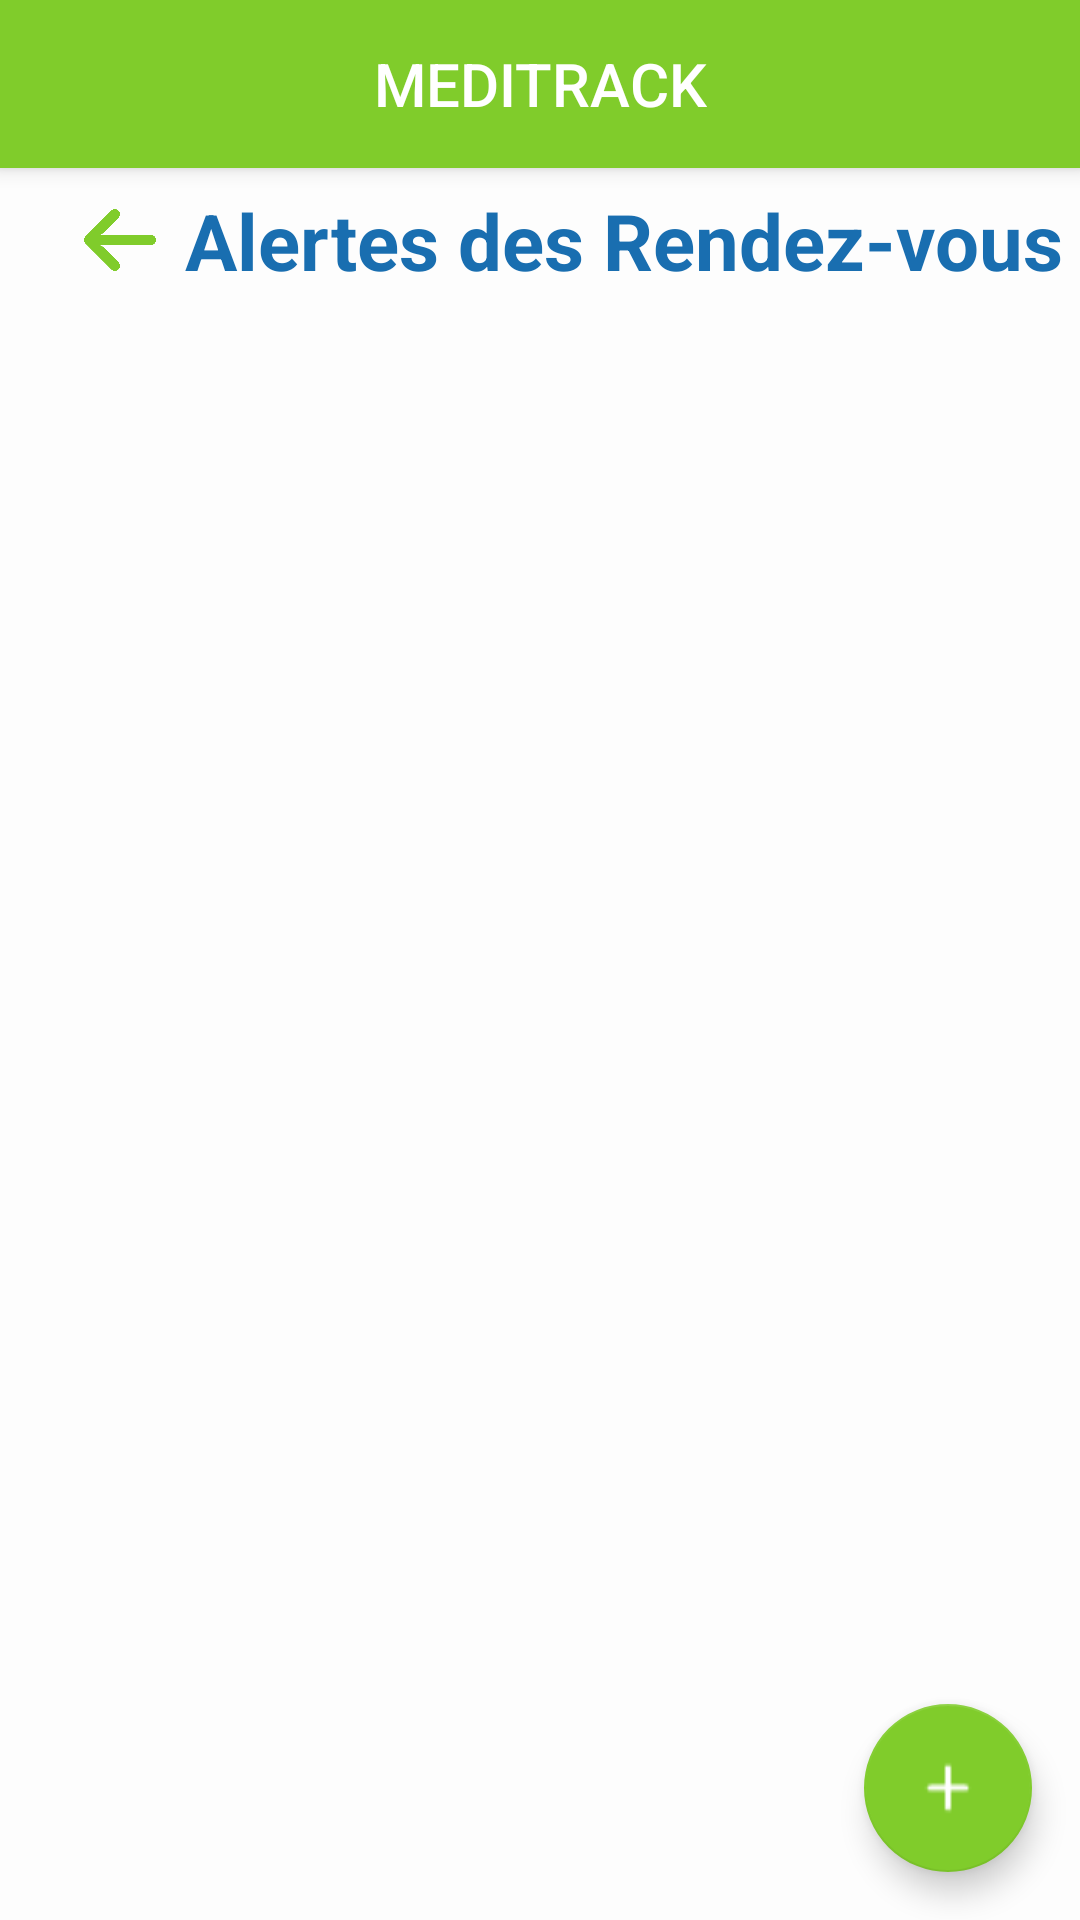

Icons on this 1080×1920 Android screen, each with the point to tap as (x,y):
arrow: (120,240)
plus: (948,1788)
